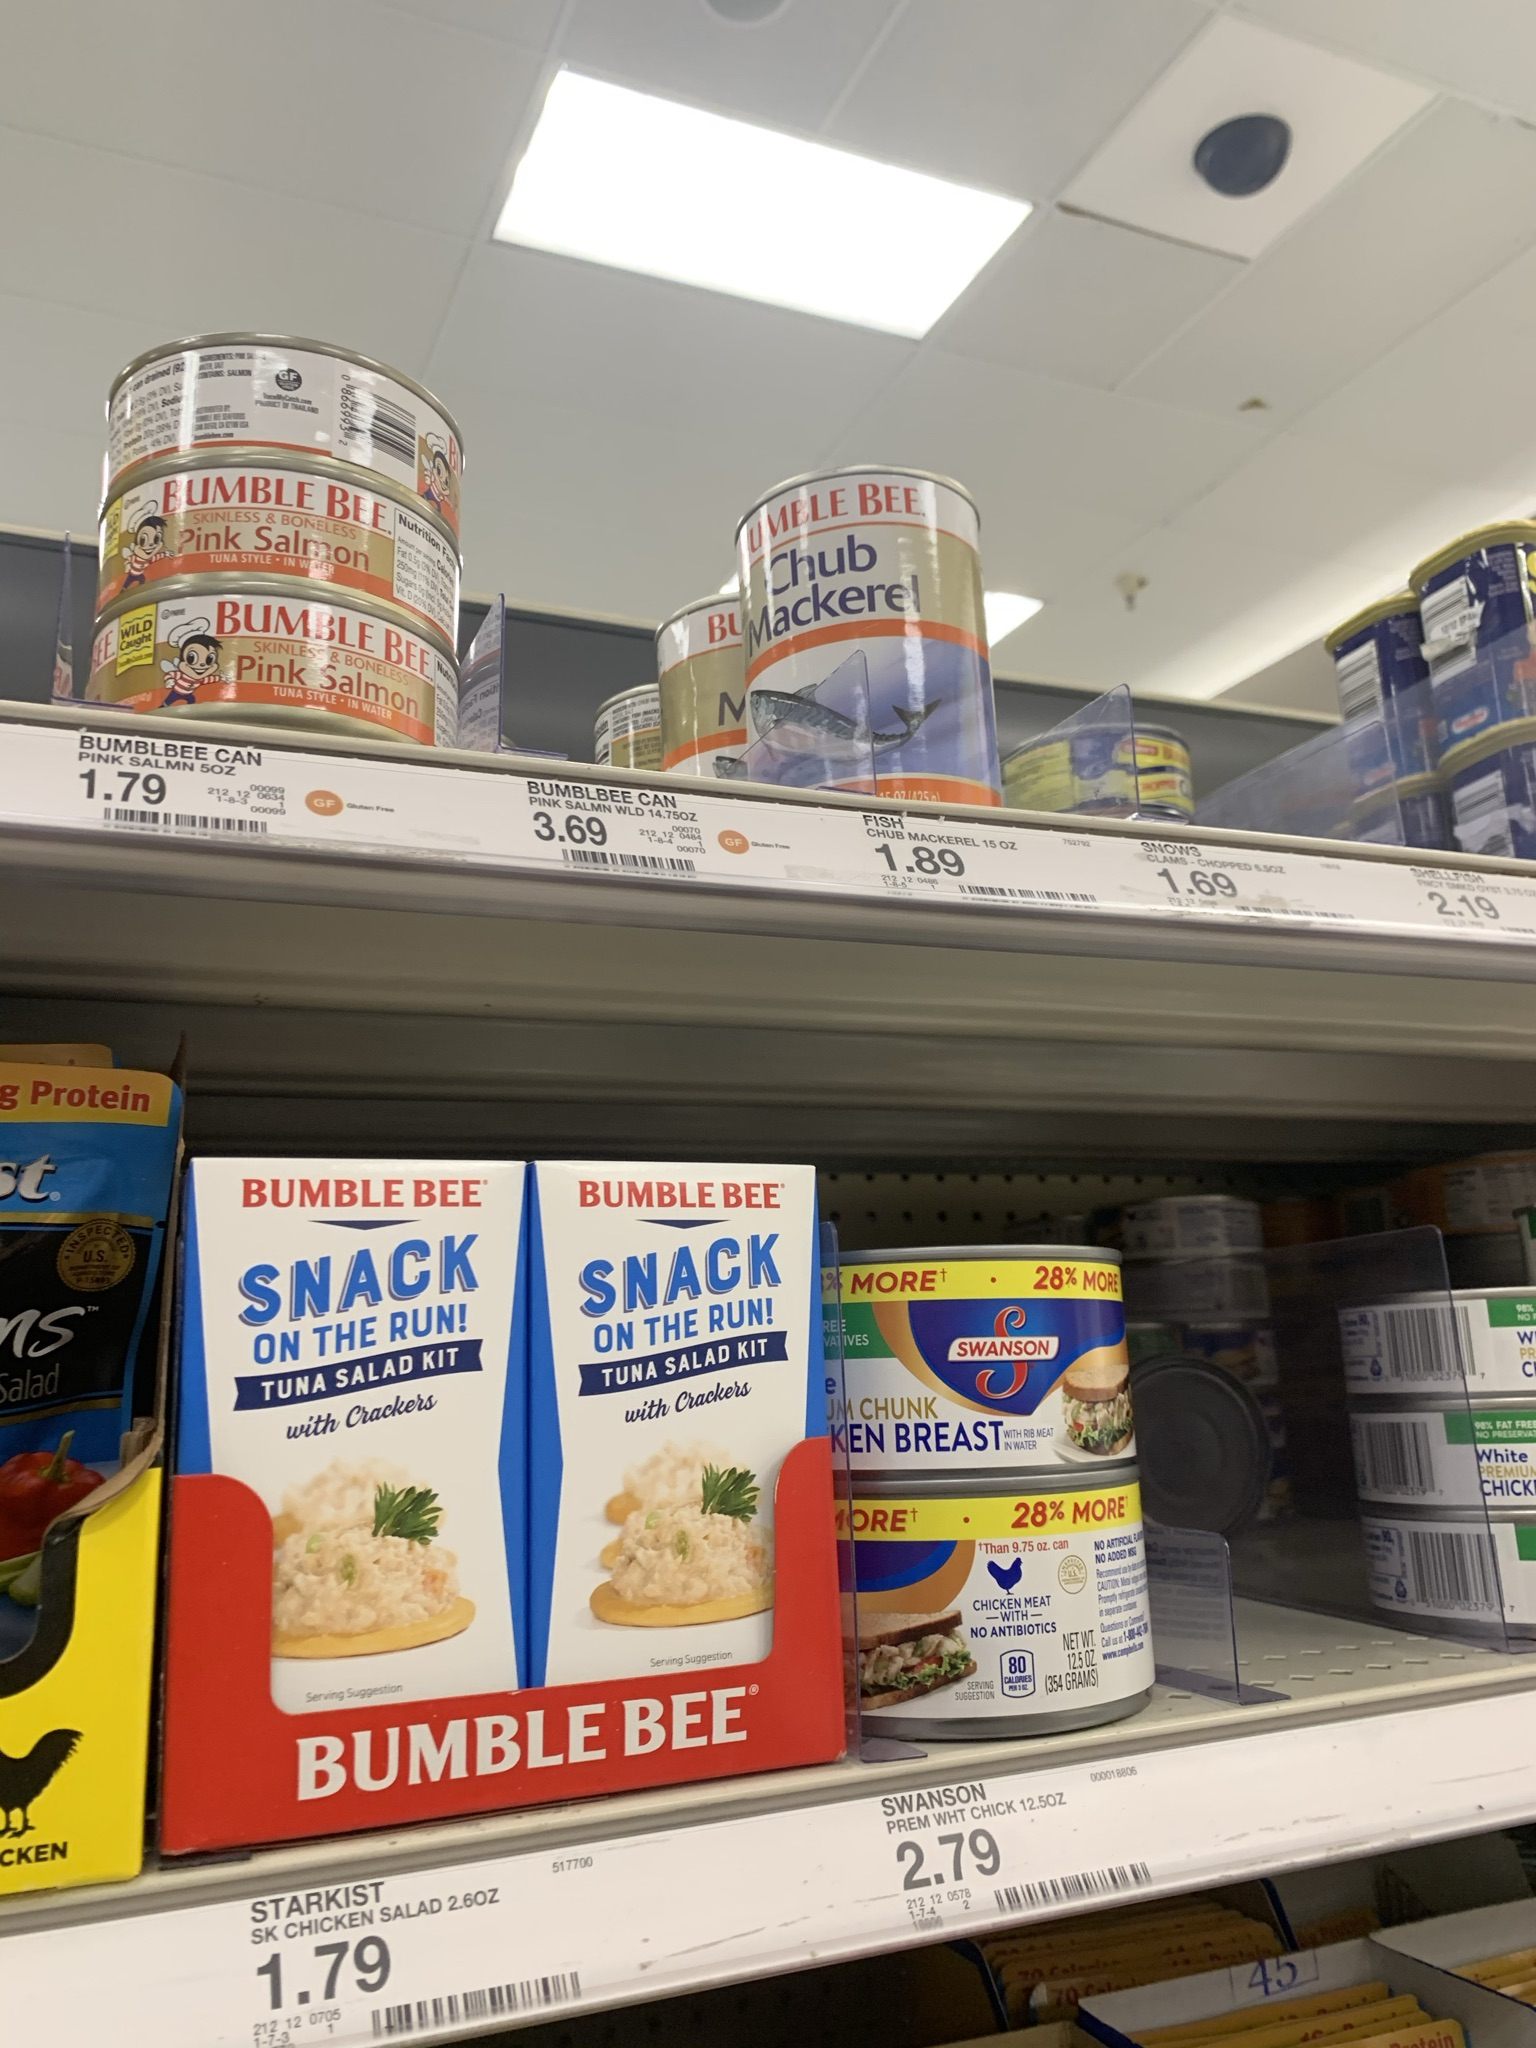box: (195, 1159, 523, 1696), (529, 1159, 812, 1680)
can: (736, 468, 995, 803), (842, 1477, 1146, 1732), (837, 1247, 1133, 1477), (86, 593, 452, 748), (97, 460, 445, 605), (106, 342, 415, 460)
